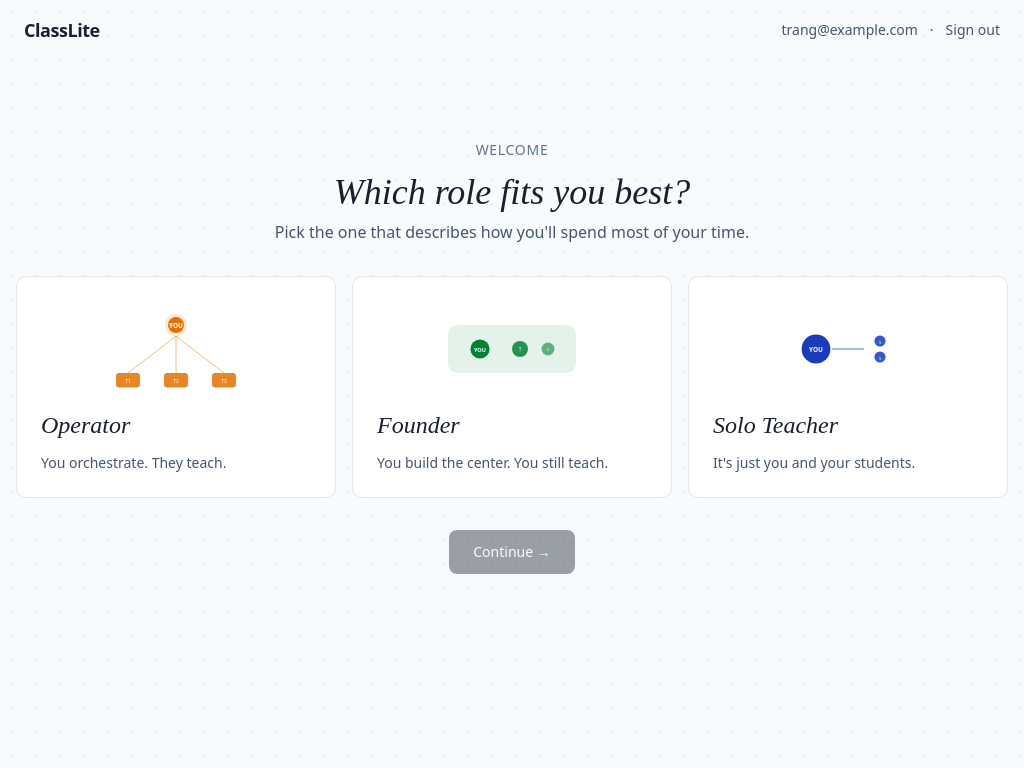
Test: PersonaSelectPage — AC3 Continue → POST persona + PUT progress + navigate › 429 RATE_LIMIT_EXCEEDED renders rateLimited copy with seconds interpolated
Click the radio button labelled "YOU T1 T2 T3 Operator You orchestrate. They teach." at coordinates (176, 387), box x1=16 y1=276 x2=336 y2=498
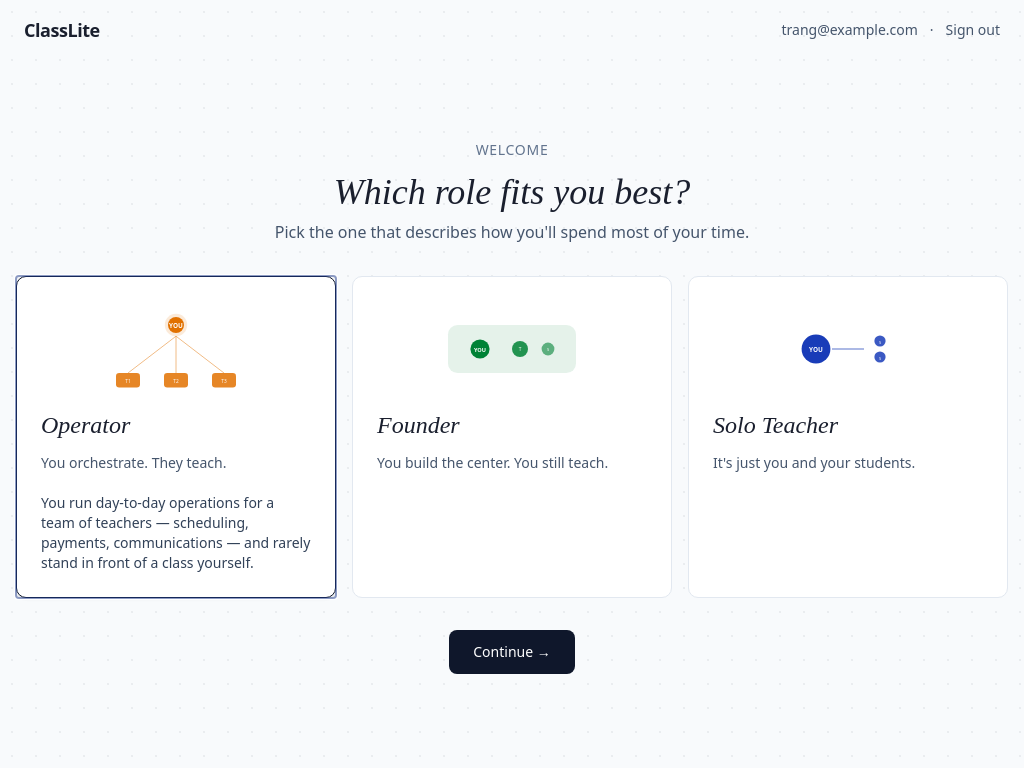
Click the button "Continue →" at coordinates (512, 652), box x1=449 y1=630 x2=575 y2=674
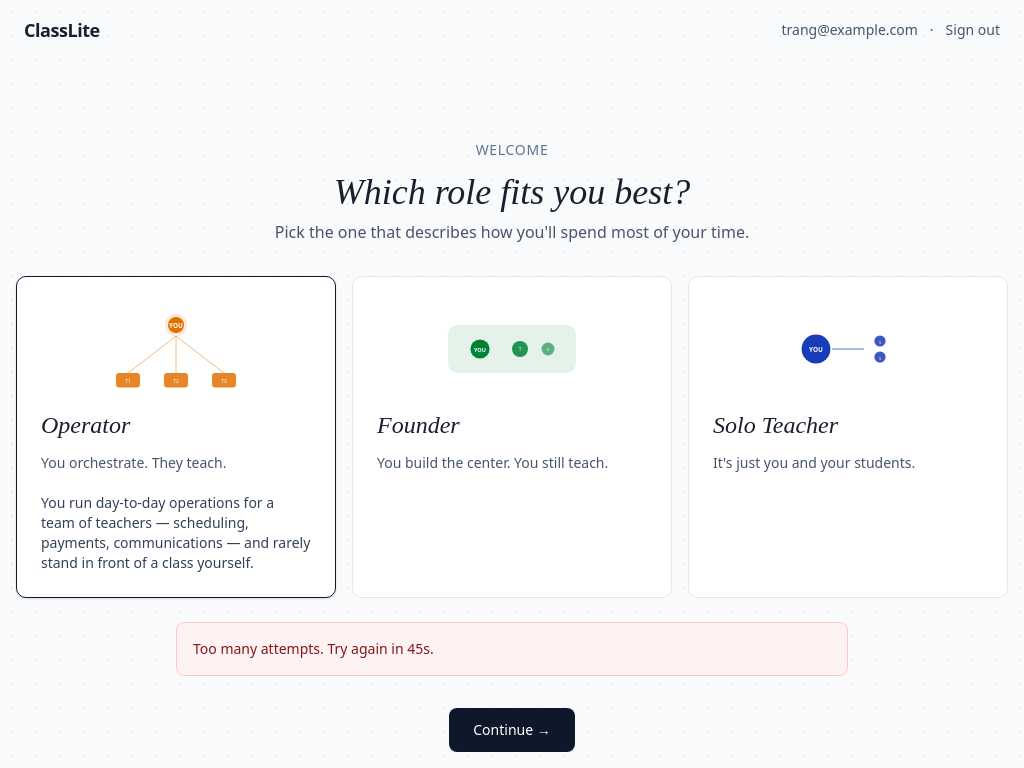
Check: the message shows "45", box x1=176 y1=622 x2=848 y2=676
